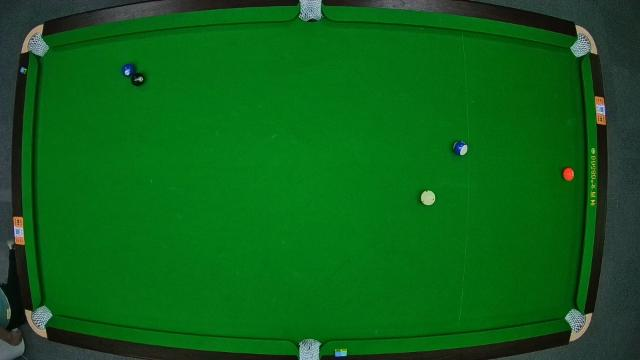bag1: (28, 34, 44, 54)
bag2: (299, 0, 323, 22)
bag3: (572, 35, 592, 55)
bag4: (33, 304, 51, 328)
bag5: (297, 338, 323, 360)
bag6: (566, 310, 584, 332)
ball0: (419, 190, 436, 206)
ball10: (452, 139, 468, 156)
ball2: (122, 62, 136, 78)
ball5: (562, 166, 576, 182)
ball8: (132, 72, 146, 86)
